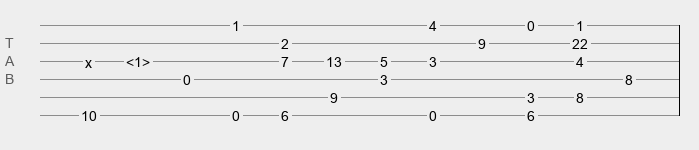0: (183, 72, 191, 82), (232, 108, 240, 118), (429, 108, 437, 118), (527, 18, 535, 28)
1: (232, 18, 240, 28), (576, 18, 584, 28)
10: (81, 108, 97, 118)
13: (326, 54, 342, 64)
2: (281, 36, 289, 46)
22: (572, 36, 588, 46)
3: (380, 72, 388, 82), (429, 54, 437, 64), (527, 90, 535, 100)
4: (429, 18, 437, 28), (576, 54, 584, 64)
5: (380, 54, 388, 64)
6: (281, 108, 289, 118), (527, 108, 535, 118)
7: (281, 54, 289, 64)
8: (576, 90, 584, 100), (625, 72, 633, 82)
9: (330, 90, 338, 100), (478, 36, 486, 46)
harmonic: (126, 54, 150, 64)
x: (85, 55, 92, 63)
